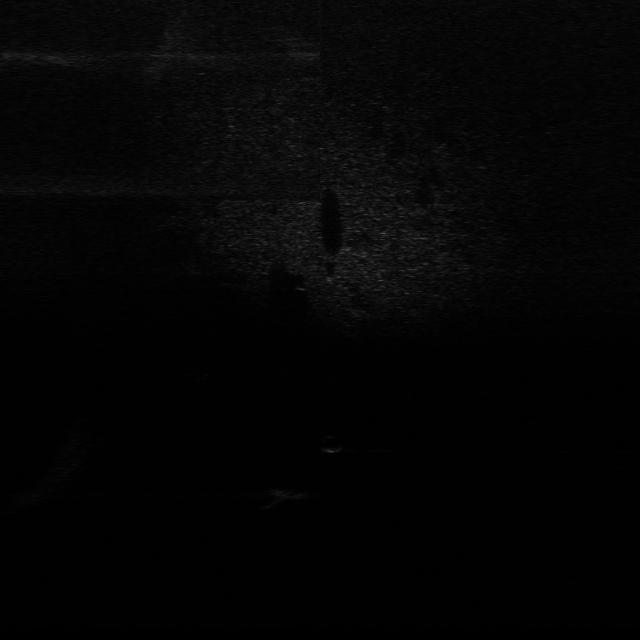ball: (314, 434, 346, 456)
square cage: (266, 482, 322, 502)
